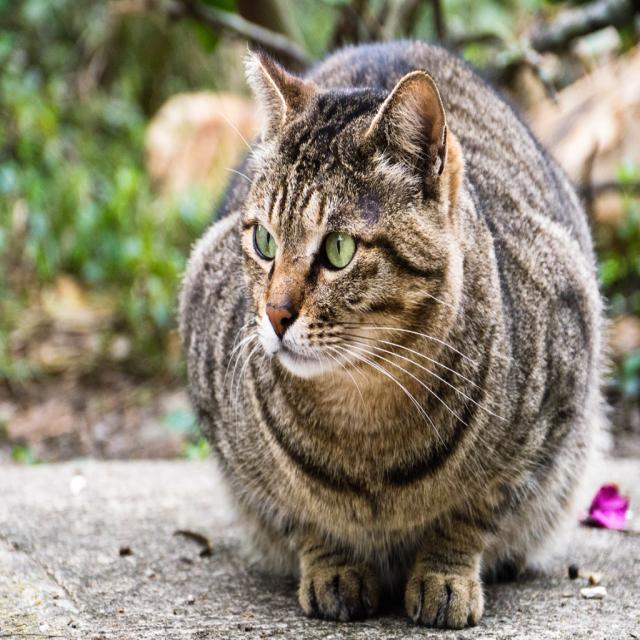Cat: (167, 34, 618, 630)
